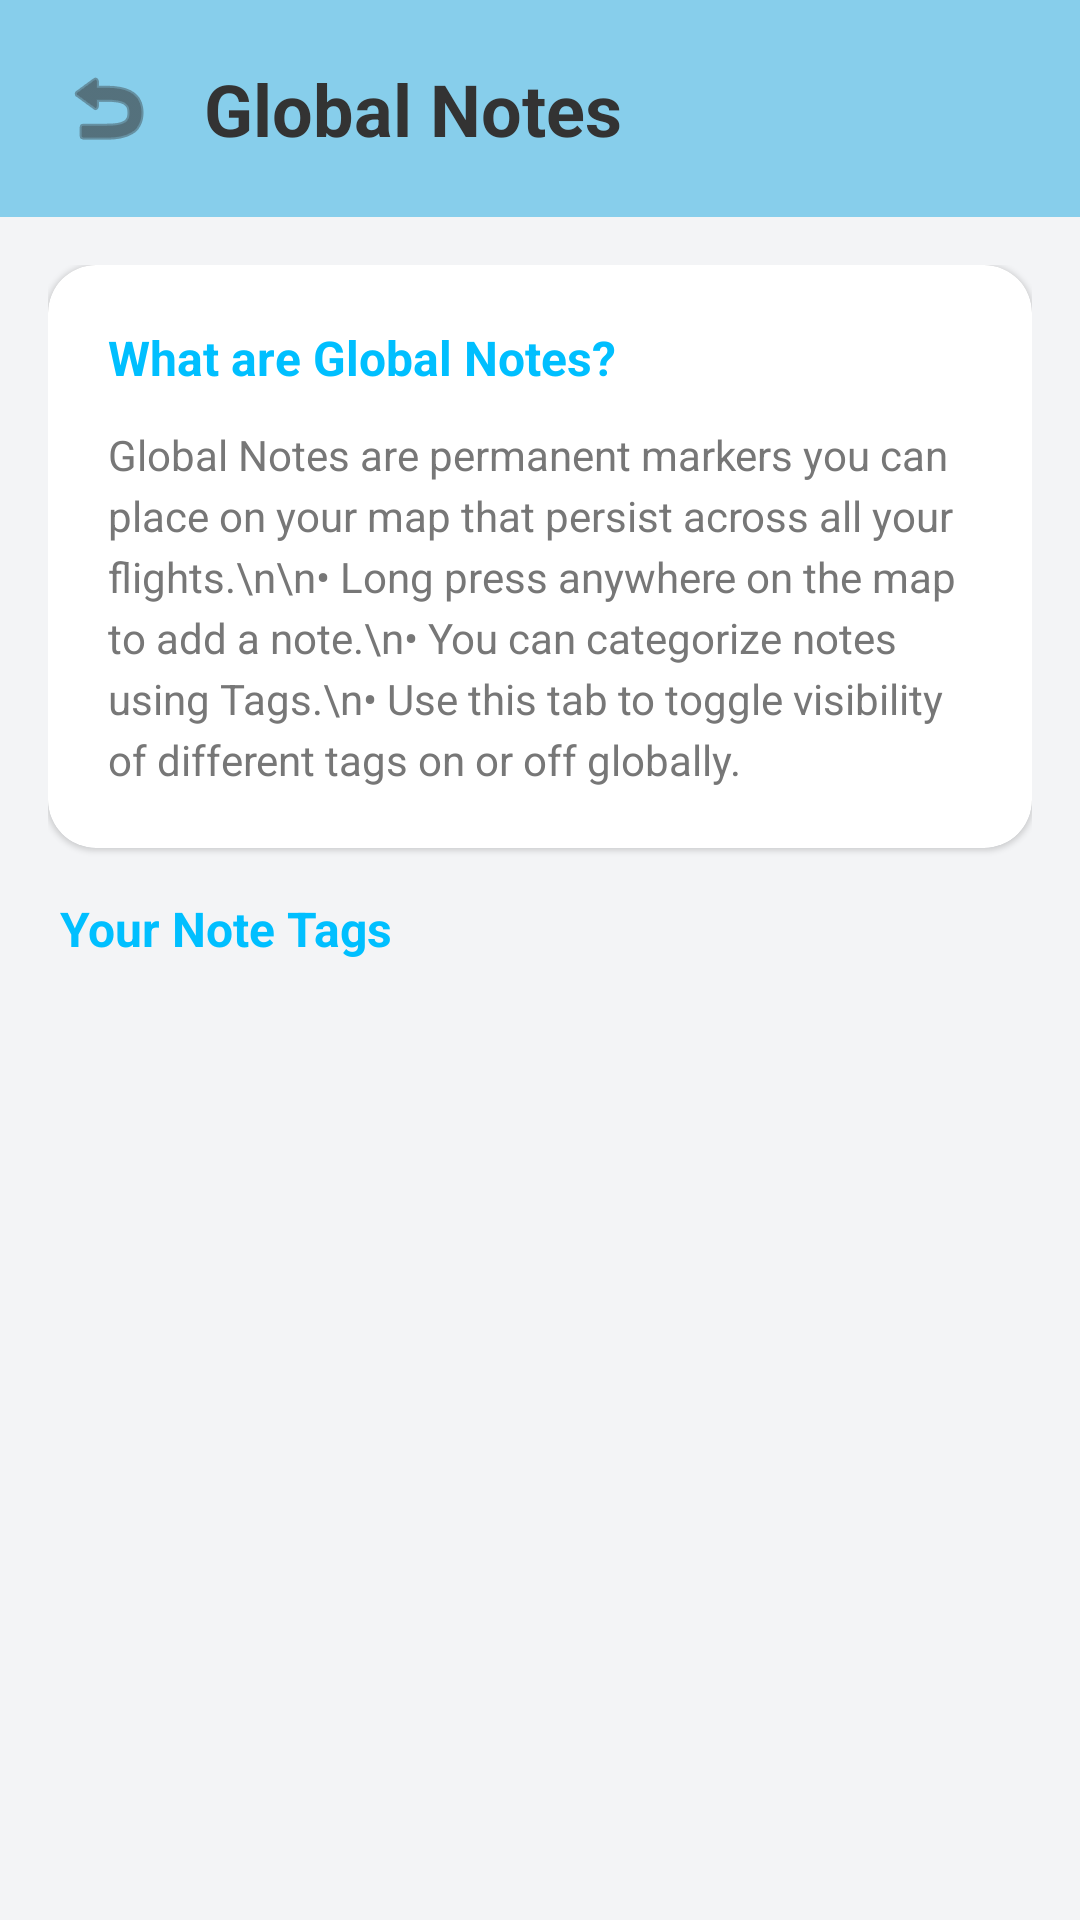

Screen size 1080x1920. Icon name, then its center in pixels as point (x, y):
Back: point (109, 108)
